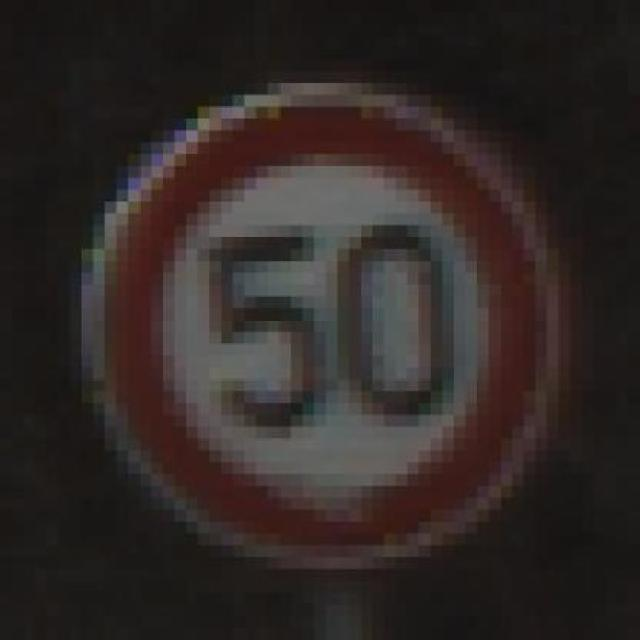50 mph speed limit: (62, 73, 575, 584)
